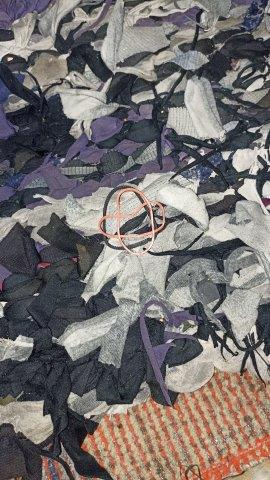karet: (98, 185, 166, 256)
